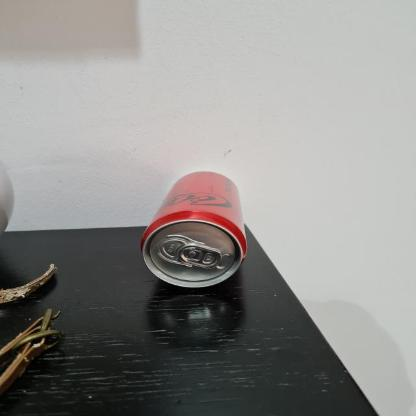Can: (136, 171, 252, 286)
